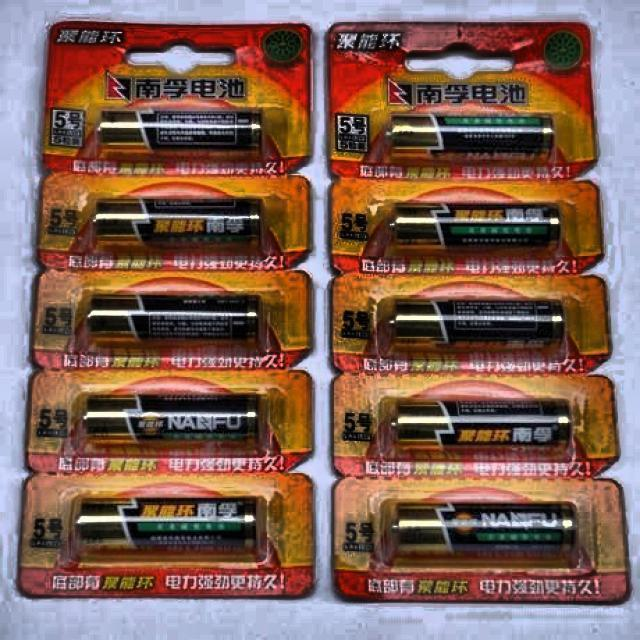battery: (329, 22, 596, 178), (42, 21, 311, 175), (19, 472, 312, 597), (335, 478, 629, 602), (334, 372, 619, 477), (26, 370, 311, 472), (32, 269, 310, 368), (332, 274, 610, 372), (331, 179, 602, 273), (38, 176, 310, 269)
